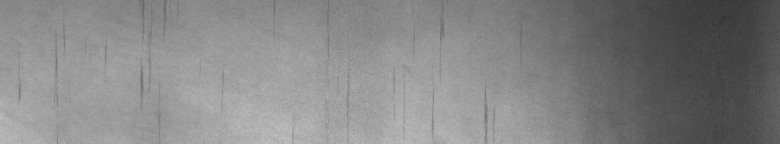ka: (432, 20, 495, 136)
